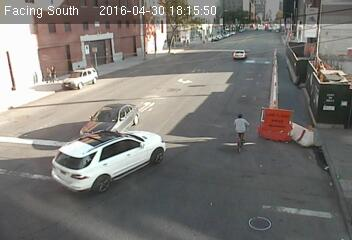neg: (223, 107, 258, 154), (305, 61, 336, 102), (30, 154, 57, 191), (236, 50, 262, 85), (278, 112, 304, 146), (156, 114, 181, 147), (107, 49, 129, 78), (279, 29, 300, 58), (55, 68, 76, 95), (102, 144, 120, 169), (250, 205, 268, 229), (167, 60, 185, 83), (91, 99, 108, 122), (193, 34, 207, 52), (148, 188, 157, 200), (230, 24, 238, 34)
